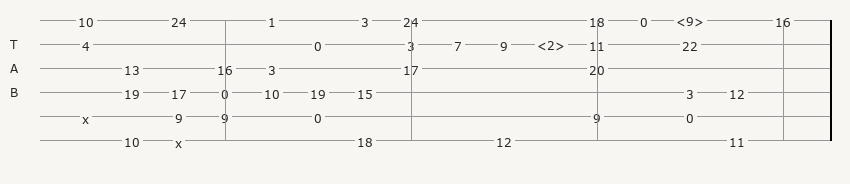0: (221, 86, 233, 99), (314, 38, 326, 51), (314, 110, 326, 123), (640, 14, 652, 27), (686, 110, 698, 123)
1: (268, 14, 280, 27)
10: (78, 14, 98, 27), (124, 134, 144, 147), (264, 86, 284, 99)
11: (589, 38, 609, 51), (729, 134, 749, 147)
12: (496, 134, 516, 147), (729, 86, 749, 99)
13: (124, 62, 144, 75)
15: (357, 86, 377, 99)
16: (217, 62, 237, 75), (775, 14, 795, 27)
17: (171, 86, 191, 99), (403, 62, 423, 75)
18: (357, 134, 377, 147), (589, 14, 609, 27)
19: (124, 86, 144, 99), (310, 86, 330, 99)
20: (589, 62, 609, 75)
22: (682, 38, 702, 51)
24: (171, 14, 191, 27), (403, 14, 423, 27)
3: (268, 62, 280, 75), (361, 14, 373, 27), (407, 38, 419, 51), (686, 86, 698, 99)
4: (82, 38, 94, 51)
7: (454, 38, 466, 51)
9: (175, 110, 187, 123), (221, 110, 233, 123), (500, 38, 512, 51), (593, 110, 605, 123)
harmonic: (537, 37, 569, 51), (676, 13, 708, 27)
x: (82, 111, 93, 122), (175, 135, 186, 146)
